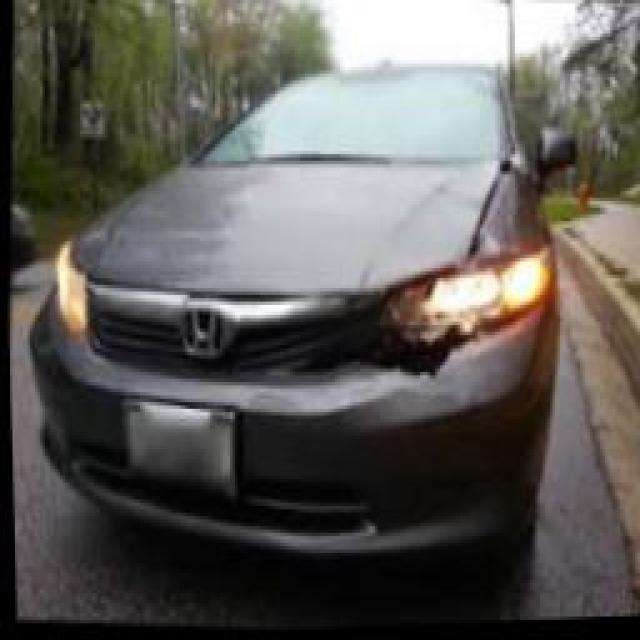Bumper: (238, 300, 543, 455)
Light: (384, 247, 547, 333)
